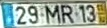1: (77, 3, 86, 23)
2: (14, 4, 26, 25)
3: (85, 3, 96, 23)
9: (27, 5, 39, 24)
M: (44, 4, 62, 24)
R: (60, 4, 75, 23)
